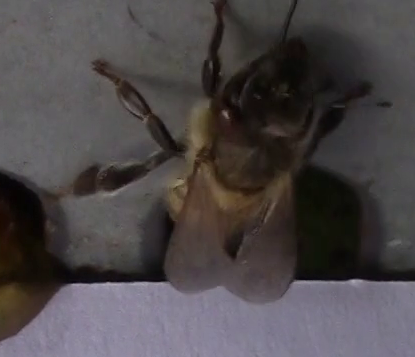Varroa destructor: (213, 100, 248, 142)
